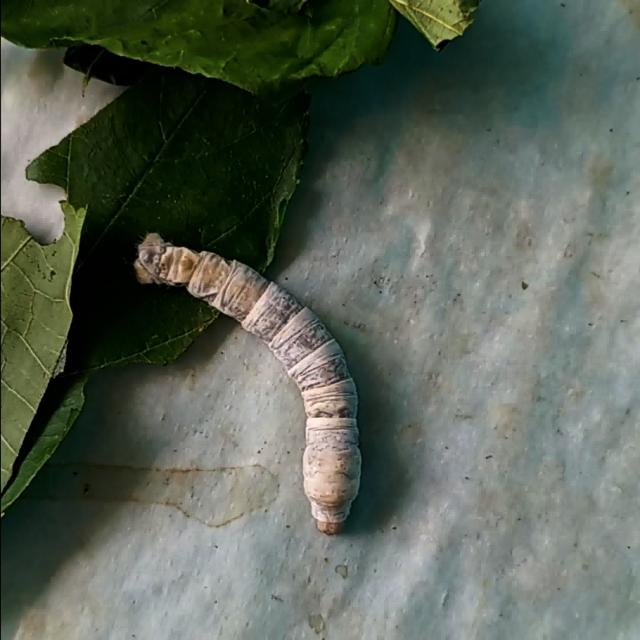Grasserie: (126, 223, 373, 536)
